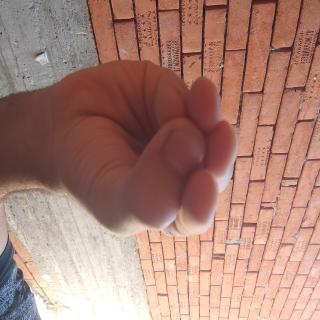HA: (33, 100, 184, 320)
